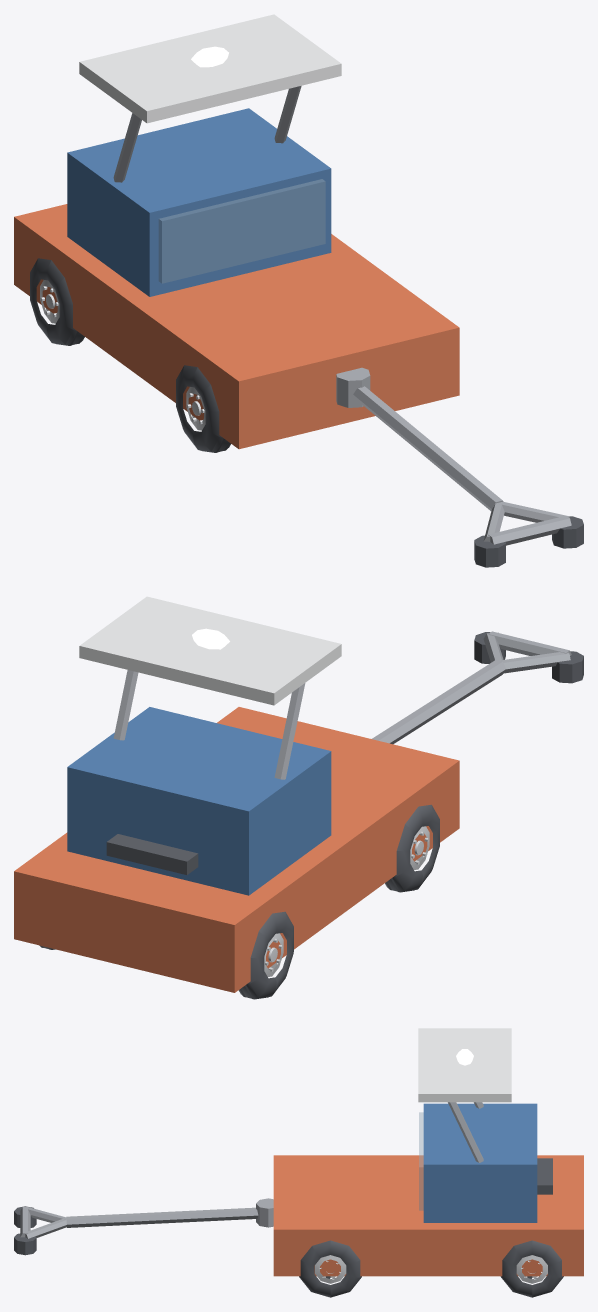
Rendered from AirportTug.glb.
The picture shows the model from 3 angles, top to bottom: view 1: azimuth 30°, elevation 25°; view 2: azimuth 150°, elevation 25°; view 3: azimuth 270°, elevation 25°; orthographic projection. The views are drawn at different scales.
Parts seen in each view (by area): view 1: aircraft-tug, tow-barsteel, wheel-0-leftdark, wheel-1-leftdark, tow-bardark; view 2: aircraft-tug, tow-barsteel, wheel-1-leftdark, wheel-0-leftdark, tow-bardark, wheel-1-leftalloy, wheel-0-leftalloy; view 3: aircraft-tug, tow-barsteel, wheel-0-rightdark, wheel-1-rightdark, tow-bardark, wheel-1-rightalloy, wheel-0-rightalloy.
Boxes of the visible parts, x1,y1,x2,y2 form: aircraft-tug: (14, 14, 459, 449); tow-barsteel: (353, 386, 571, 545); wheel-0-leftdark: (176, 365, 230, 452); wheel-1-leftdark: (30, 258, 84, 345); tow-bardark: (474, 516, 583, 567); aircraft-tug: (14, 596, 459, 992); tow-barsteel: (372, 631, 571, 744); wheel-1-leftdark: (238, 911, 293, 999); wheel-0-leftdark: (385, 804, 439, 892); tow-bardark: (474, 632, 583, 683); wheel-1-leftalloy: (264, 933, 283, 976); wheel-0-leftalloy: (410, 826, 429, 869); aircraft-tug: (256, 1028, 583, 1276); tow-barsteel: (20, 1206, 258, 1238); wheel-0-rightdark: (299, 1240, 361, 1297); wheel-1-rightdark: (500, 1240, 563, 1297); tow-bardark: (14, 1206, 36, 1255); wheel-1-rightalloy: (516, 1255, 547, 1283); wheel-0-rightalloy: (315, 1255, 346, 1283).
Bounding box in the file's own units: 0.9069 × 1.15 × 2.82.
